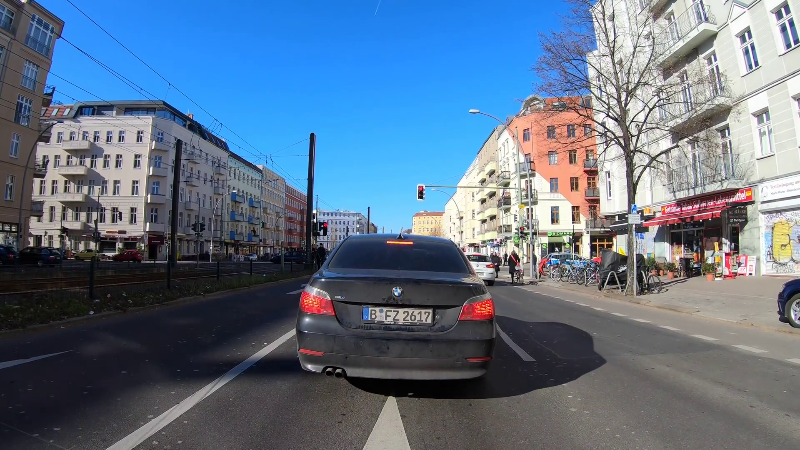Plate: (360, 306, 433, 324)
